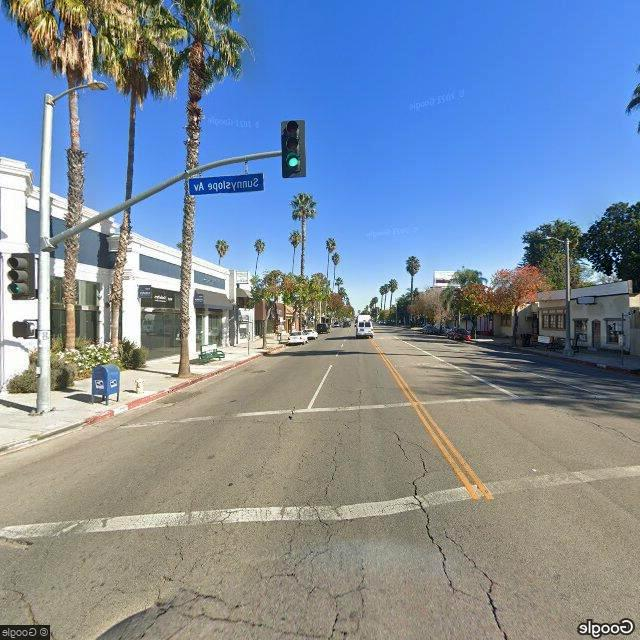crack: (138, 514, 367, 639)
pothole: (394, 423, 506, 631), (563, 407, 640, 461), (323, 415, 351, 502)
